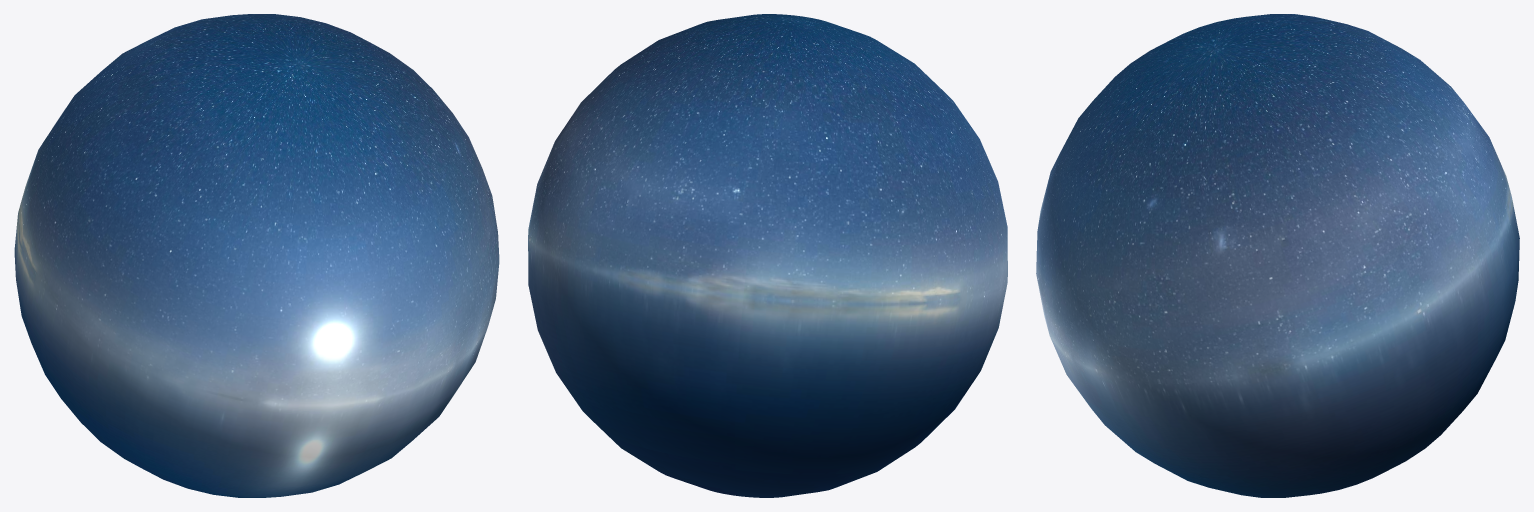
Rendered from minuit.gltf.
3 renders of one model, left to right at view 1: azimuth 30°, elevation 25°; view 2: azimuth 150°, elevation 25°; view 3: azimuth 270°, elevation 25°, orthographic.
Parts seen in each view (by area): view 1: minuit; view 2: minuit; view 3: minuit.
Boxes of the visible parts, x1,y1,x2,y2 form: minuit: (14,14,499,497); minuit: (528,14,1007,497); minuit: (1036,14,1519,497).
Size of the model in its own units: 444 by 443 by 443.
Materials: 1 (1 with a texture image).
